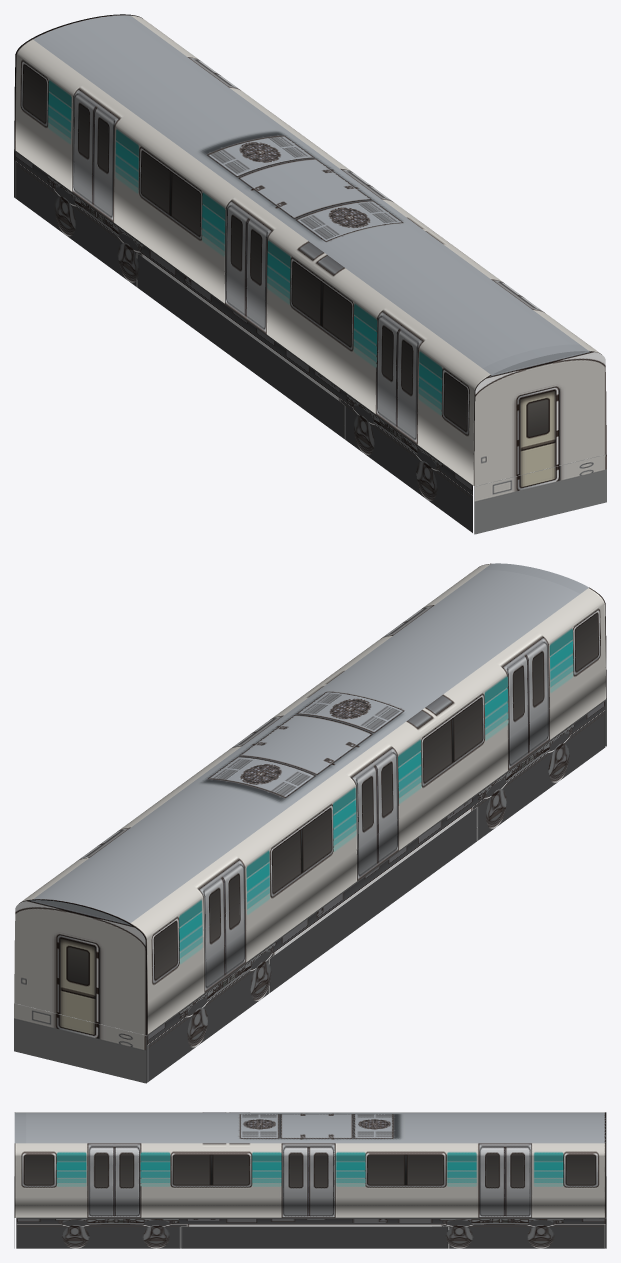
Rendered from car2.glb.
The picture shows the model from 3 angles, top to bottom: view 1: azimuth 30°, elevation 25°; view 2: azimuth 150°, elevation 25°; view 3: azimuth 270°, elevation 25°; orthographic projection. The views are drawn at different scales.
Parts seen in each view (by area): view 1: yokohamasub-10000-car2; view 2: yokohamasub-10000-car2; view 3: yokohamasub-10000-car2.
Part boxes in pixels (x1,y1,x2,y2): yokohamasub-10000-car2: (14, 14, 606, 534); yokohamasub-10000-car2: (14, 563, 606, 1083); yokohamasub-10000-car2: (14, 1112, 606, 1248).
Bounding box in the file's own units: 2.49 × 2.9 × 15.03.
9 materials, 8 textured.
